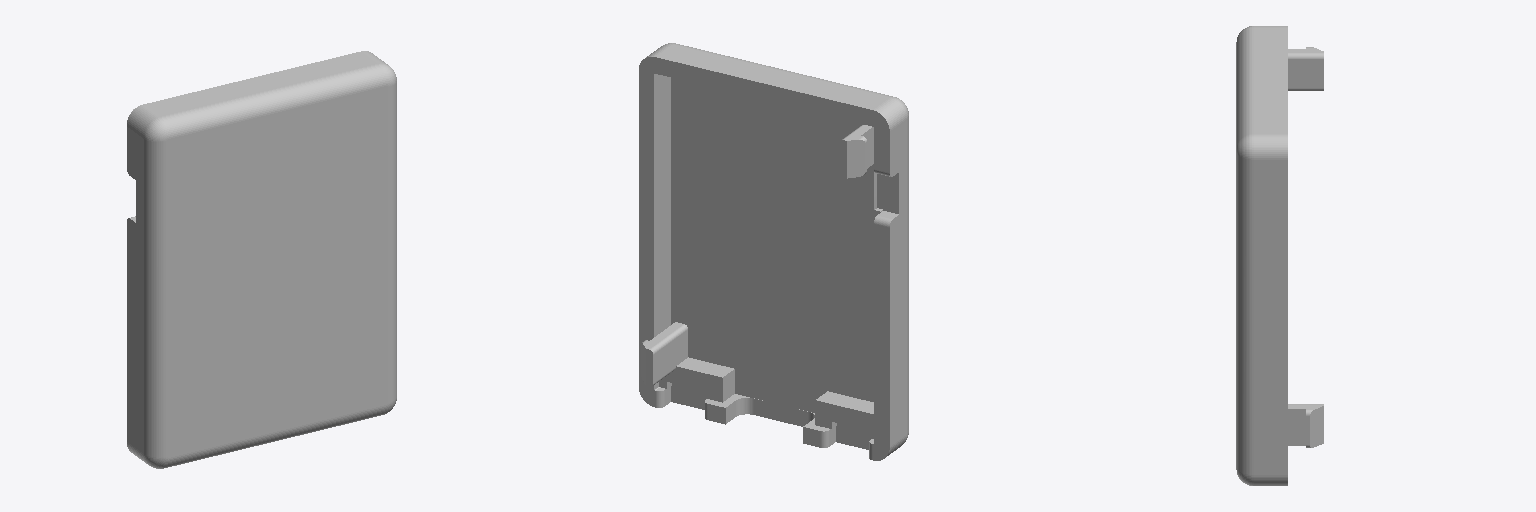
File: case.obj
The picture shows the model from 3 angles: view 1: azimuth 30°, elevation 25°; view 2: azimuth 150°, elevation 25°; view 3: azimuth 270°, elevation 25°; orthographic projection.
Parts seen in each view (by area): view 1: Body1; view 2: Body1; view 3: Body1.
Part boxes in pixels (x1,y1,x2,y2): Body1: (127, 51, 396, 468); Body1: (639, 43, 908, 460); Body1: (1236, 26, 1323, 485).
Bounding box in the file's own units: 0.03 × 0.04 × 0.009.